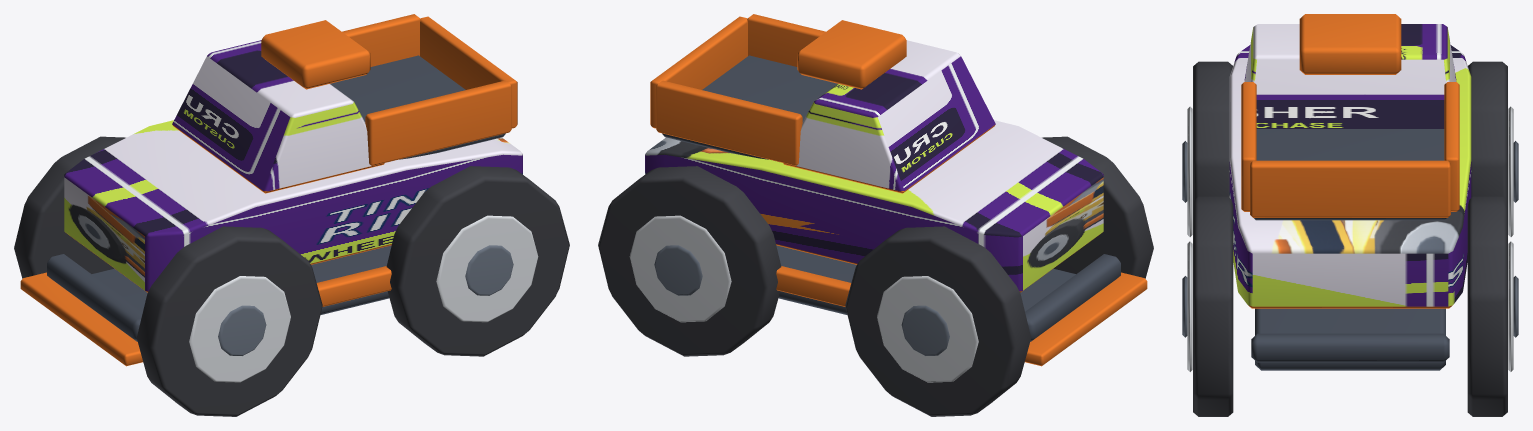
3 views of the same model, side by side, from view 1: azimuth 30°, elevation 25°; view 2: azimuth 150°, elevation 25°; view 3: azimuth 270°, elevation 25° (orthographic). The views are drawn at different scales.
Parts seen in each view (by area): view 1: BW-01_connected_shell, BW-01_cabin, Tire, Tire.002, cargo side, Rim.002, Rim, Tire.001, custom equipment, cargo floor, custom chin, cargo tail (+6 smaller); view 2: BW-01_connected_shell, BW-01_cabin, Tire.001, Tire.003, cargo side.001, Rim.003, Rim.001, Tire, custom equipment, cargo floor, custom chin, cargo tail (+6 smaller); view 3: BW-01_connected_shell, BW-01_cabin, cargo tail, Tire.002, Tire.003, underbody, cargo floor, custom equipment, rear bumper, Tire, Tire.001, cargo side (+9 smaller).
Part boxes in pixels (left/top/right/bottom): BW-01_connected_shell: left=64, top=120, right=522, bottom=292; BW-01_cabin: left=172, top=40, right=384, bottom=193; Tire: left=136, top=226, right=322, bottom=416; Tire.002: left=386, top=166, right=569, bottom=356; cargo side: left=365, top=80, right=511, bottom=165; Rim.002: left=436, top=215, right=538, bottom=322; Rim: left=189, top=276, right=290, bottom=382; Tire.001: left=14, top=136, right=125, bottom=278; custom equipment: left=261, top=20, right=370, bottom=89; cargo floor: left=330, top=55, right=505, bottom=159; custom chin: left=20, top=272, right=142, bottom=366; cargo tail: left=420, top=16, right=517, bottom=128; BW-01_connected_shell: left=645, top=120, right=1103, bottom=292; BW-01_cabin: left=783, top=40, right=995, bottom=193; Tire.001: left=845, top=226, right=1031, bottom=416; Tire.003: left=598, top=166, right=781, bottom=356; cargo side.001: left=656, top=80, right=802, bottom=165; Rim.003: left=629, top=215, right=731, bottom=322; Rim.001: left=877, top=276, right=978, bottom=382; Tire: left=1042, top=136, right=1153, bottom=278; custom equipment: left=797, top=20, right=906, bottom=89; cargo floor: left=662, top=55, right=837, bottom=159; custom chin: left=1025, top=272, right=1147, bottom=366; cargo tail: left=650, top=16, right=747, bottom=128; BW-01_connected_shell: left=1229, top=45, right=1471, bottom=308; BW-01_cabin: left=1244, top=24, right=1456, bottom=128; cargo tail: left=1250, top=160, right=1450, bottom=217; Tire.002: left=1193, top=196, right=1233, bottom=416; Tire.003: left=1467, top=196, right=1507, bottom=416; underbody: left=1255, top=308, right=1445, bottom=370; cargo floor: left=1254, top=129, right=1446, bottom=220; custom equipment: left=1299, top=14, right=1401, bottom=74; rear bumper: left=1251, top=333, right=1449, bottom=362; Tire: left=1193, top=61, right=1232, bottom=200; Tire.001: left=1468, top=61, right=1507, bottom=200; cargo side: left=1241, top=82, right=1256, bottom=211.
Size of the model in its own units: 358 by 230 by 217.
